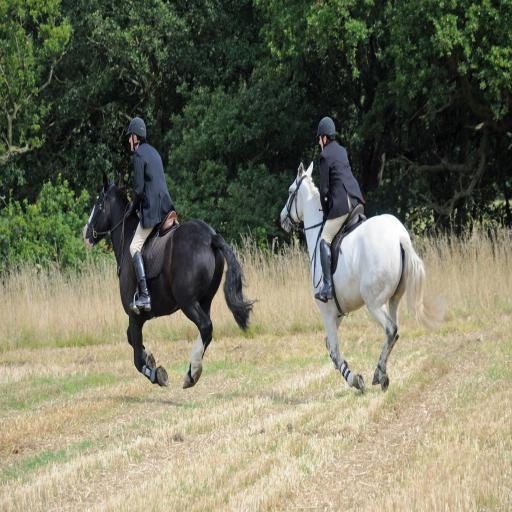horse: (278, 158, 439, 399), (82, 184, 256, 394)
